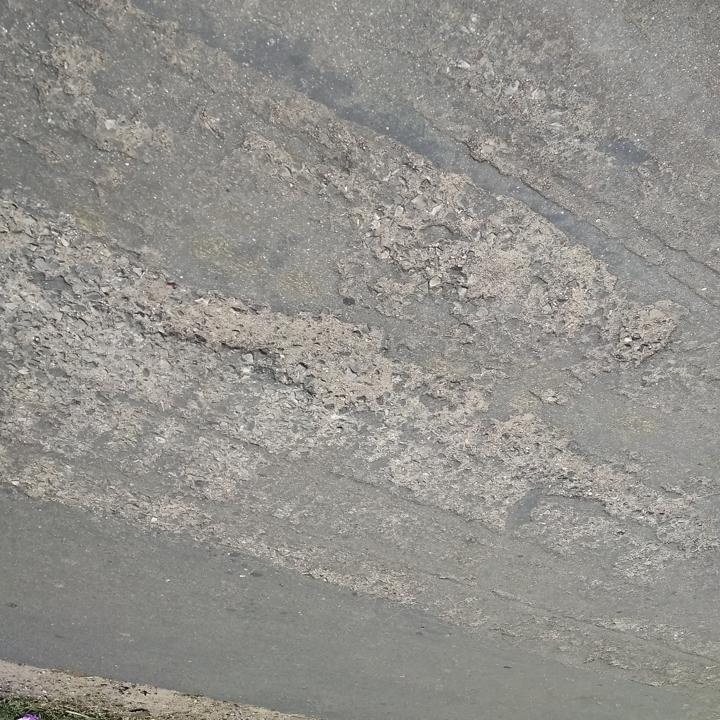pothole: (156, 287, 399, 410), (478, 417, 639, 523), (607, 303, 682, 366)
